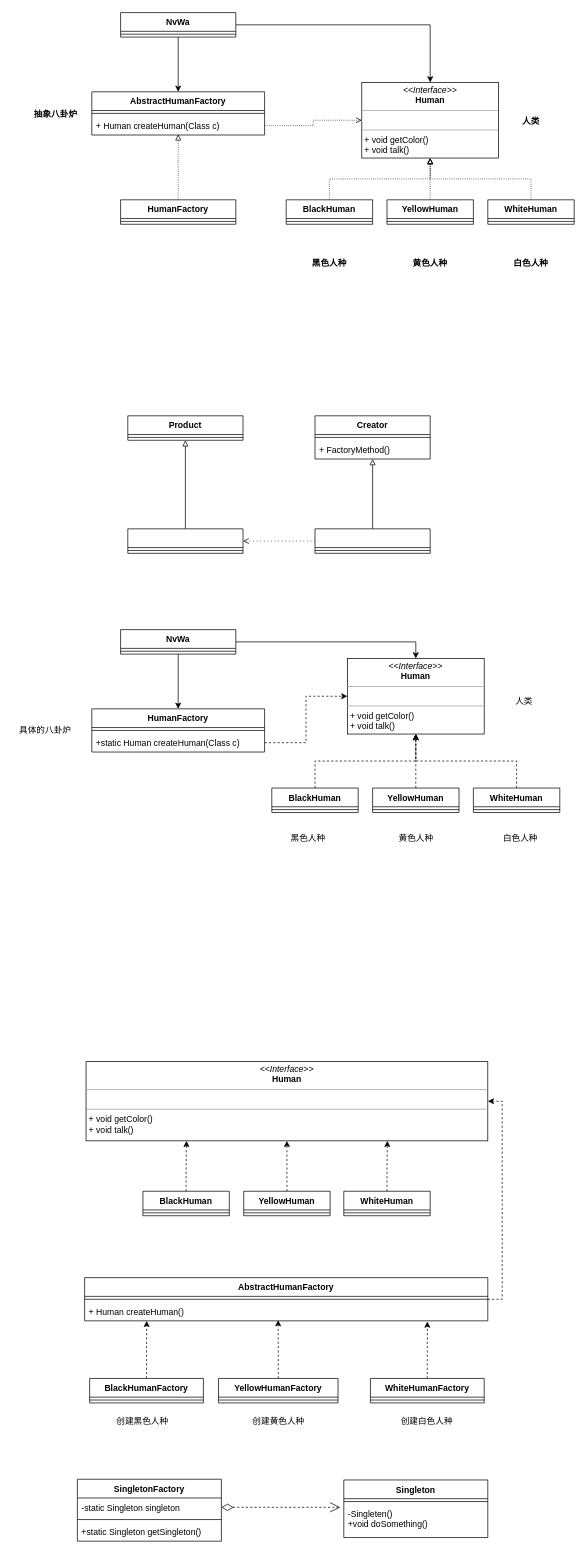
This 587x1556 diagram has some shape labels left out. The centre of each missing label's shape, as x and y in pixels:
ConcreteCreator: (372,540)
ConcreteProduct: (185,540)
